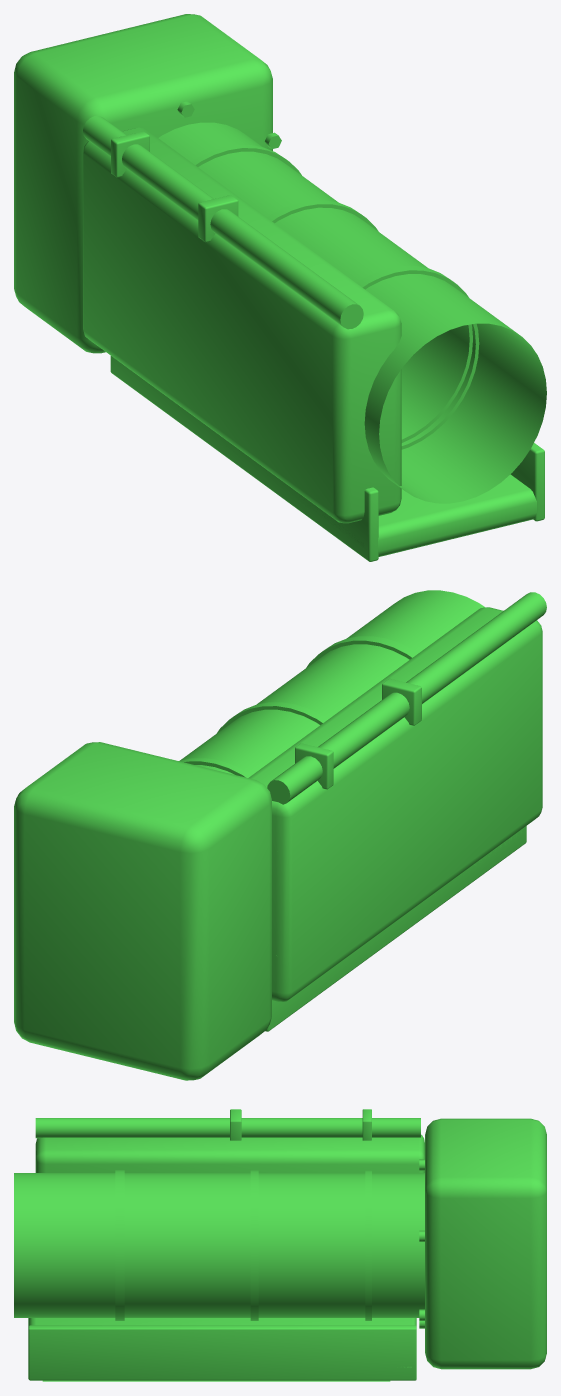
Rendered from arm_01_fixed.obj.
3 views of the same model, one above another, from view 1: azimuth 30°, elevation 25°; view 2: azimuth 150°, elevation 25°; view 3: azimuth 270°, elevation 25° (orthographic). The views are drawn at different scales.
Visible parts, largest first — view 1: Arm_01_Fixed; view 2: Arm_01_Fixed; view 3: Arm_01_Fixed.
Boxes of the visible parts, <box> form: Arm_01_Fixed: <box>14,14,546,561</box>; Arm_01_Fixed: <box>14,590,546,1080</box>; Arm_01_Fixed: <box>14,1109,546,1381</box>.
Size of the model in its own units: 245 by 304 by 735.
